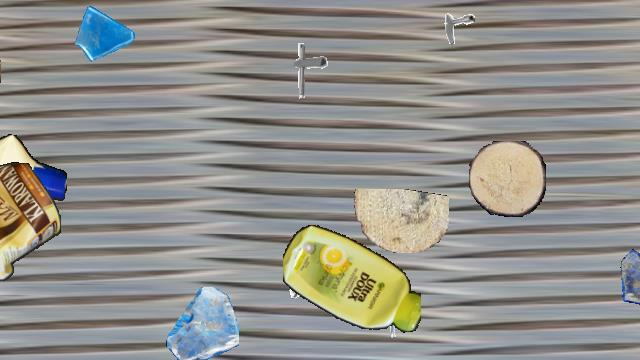glass: (166, 287, 238, 359), (73, 1, 137, 65), (620, 248, 640, 306)
metal: (276, 40, 336, 100), (283, 255, 329, 301), (375, 301, 419, 345), (433, 2, 475, 44)
plastic: (283, 221, 421, 337), (0, 162, 60, 282), (0, 133, 66, 229)
wood: (351, 189, 449, 253), (469, 141, 545, 217), (0, 49, 1, 103)
